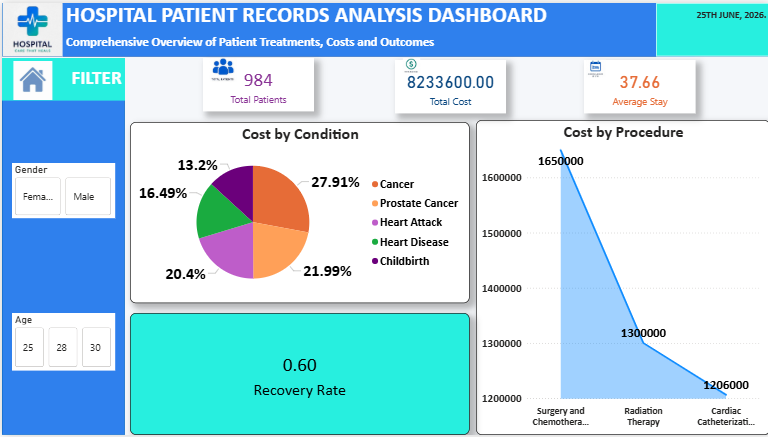

The page's visual inventory and layout, read from the dashboard file:
{"tool":"powerbi","page":{"name":"Page 1","canvas":[1280,720],"ordinal":0},"visuals":[{"type":"shape","box":[0,0,1280,89],"z":0},{"type":"shape","box":[0,92.4,204.5,628.5],"z":1000},{"type":"pieChart","title":"Cost by Condition","fields":{"Category":["hospital data analysis.Condition"],"Y":["Sum(hospital data analysis.Cost)"]},"box":[212.8,197.9,565.8,301.9],"z":2000},{"type":"card","fields":{"Values":["hospital data analysis.Total Patients"]},"box":[334.8,92.4,184.7,89.1],"z":3000,"group":"g3"},{"type":"advancedSlicerVisual","fields":{"Values":["hospital data analysis.Age"]},"box":[16.5,516.3,171.5,95.7],"z":3000},{"type":"areaChart","title":" Cost by Procedure","fields":{"Category":["hospital data analysis.Procedure"],"Y":["Sum(hospital data analysis.Cost)"]},"box":[790.1,194.6,489.9,524.5],"z":4000},{"type":"card","fields":{"Values":["hospital data analysis.Total Cost"]},"box":[654.8,95.7,185,89.1],"z":5000,"group":"g2"},{"type":"advancedSlicerVisual","fields":{"Values":["hospital data analysis.Gender"]},"box":[16.5,267.2,171.5,92.4],"z":5000},{"type":"card","fields":{"Values":["hospital data analysis.Recovery Rate"]},"box":[212.8,516.3,565.8,202.9],"z":6000},{"type":"textbox","box":[102.3,0,1052.4,89.1],"z":7000},{"type":"card","fields":{"Values":["hospital data analysis.Average Stay"]},"box":[969.9,95.7,186.4,89.1],"z":7000,"group":"g1"},{"type":"textbox","box":[0,92.4,204.5,70.9],"z":8000},{"type":"textbox","box":[1090.3,0,189.7,89.1],"z":9000},{"type":"image","box":[0,0,102.3,89.1],"z":10000},{"type":"image","box":[0,96.5,102.2,64.8],"z":11000},{"type":"group","id":"g1","title":"Group 1","box":[969.9,92.4,186.4,92.4],"z":12000},{"type":"group","id":"g2","title":"Group 2","box":[654.8,92.4,184.7,92.4],"z":13000},{"type":"group","id":"g3","title":"Group 3","box":[334.8,92.4,184.7,89.1],"z":14000},{"type":"image","box":[341.4,92.4,54.4,41.2],"z":23000,"group":"g3"},{"type":"image","box":[654.8,92.4,54.4,24.7],"z":24000,"group":"g2"},{"type":"image","box":[973.2,92.4,33,34.6],"z":25000,"group":"g1"}]}

Visuals, with their boxes in screenshot pixels (x1, y1, x2, y2), scaled from the page's 1280x720 canvas onto the 768x437 screenshot:
shape: l=0, t=0, r=767, b=54
shape: l=0, t=56, r=123, b=436
"Cost by Condition" pieChart: l=128, t=120, r=467, b=303
card - hospital data analysis.Total Patients: l=201, t=56, r=312, b=110
advancedSlicerVisual - hospital data analysis.Age: l=10, t=313, r=113, b=371
" Cost by Procedure" areaChart: l=474, t=118, r=767, b=436
card - hospital data analysis.Total Cost: l=393, t=58, r=504, b=112
advancedSlicerVisual - hospital data analysis.Gender: l=10, t=162, r=113, b=218
card - hospital data analysis.Recovery Rate: l=128, t=313, r=467, b=436
textbox: l=61, t=0, r=693, b=54
card - hospital data analysis.Average Stay: l=582, t=58, r=694, b=112
textbox: l=0, t=56, r=123, b=99
textbox: l=654, t=0, r=767, b=54
image: l=0, t=0, r=61, b=54
image: l=0, t=59, r=61, b=98
"Group 1" group: l=582, t=56, r=694, b=112
"Group 2" group: l=393, t=56, r=504, b=112
"Group 3" group: l=201, t=56, r=312, b=110
image: l=205, t=56, r=237, b=81
image: l=393, t=56, r=426, b=71
image: l=584, t=56, r=604, b=77
